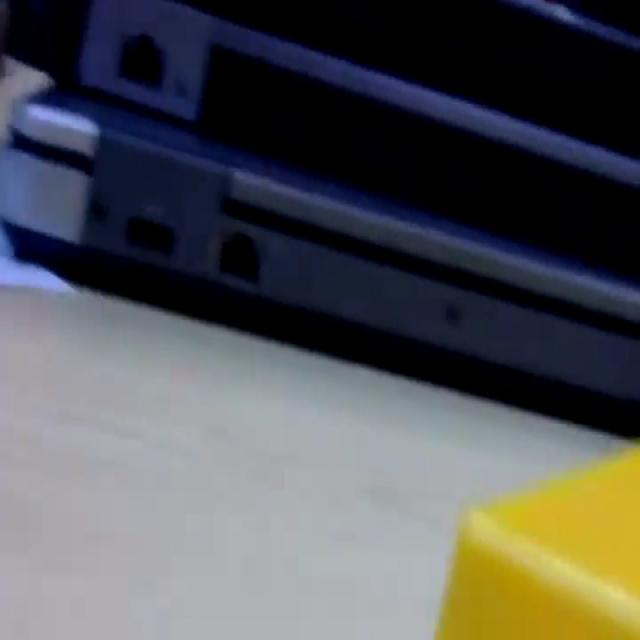yellow_block: (433, 443, 638, 637)
